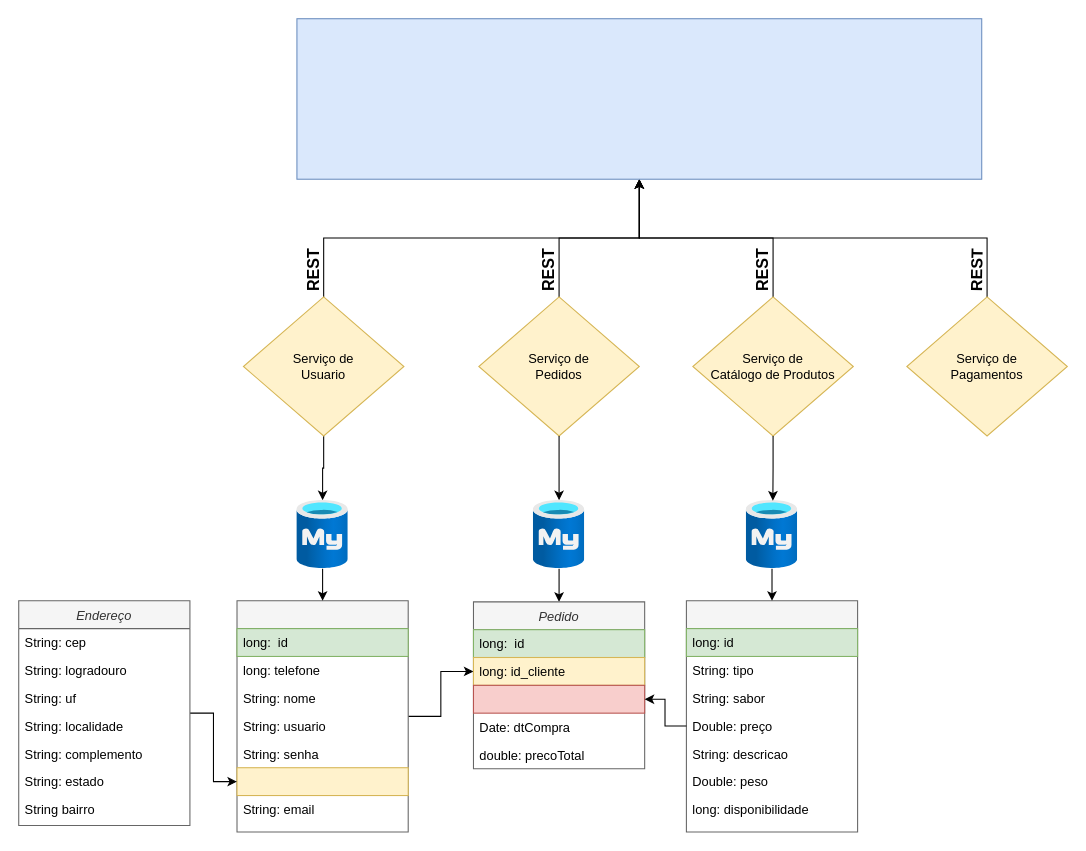
This 1086x851 diagram has some shape labels left out. Each missing label, with the box of its shape:
Cliente: (236, 600, 408, 832)
Endereço: endereco: (236, 767, 408, 796)
FRONT-END REACT: (296, 18, 982, 179)
long: id_racao: (472, 684, 645, 713)
Ração: (685, 600, 858, 832)
